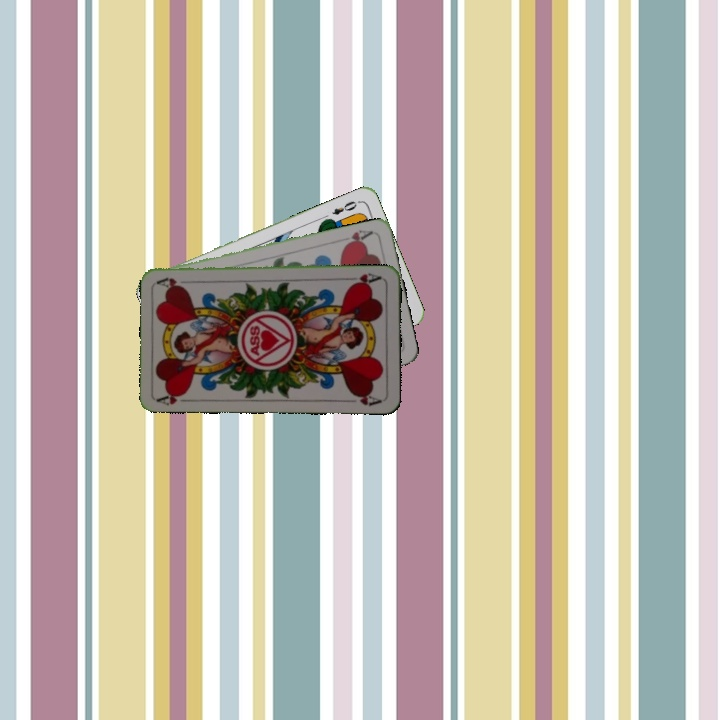EO: (328, 197, 362, 218)
HA: (341, 226, 375, 249), (154, 388, 195, 407), (344, 269, 384, 288)
